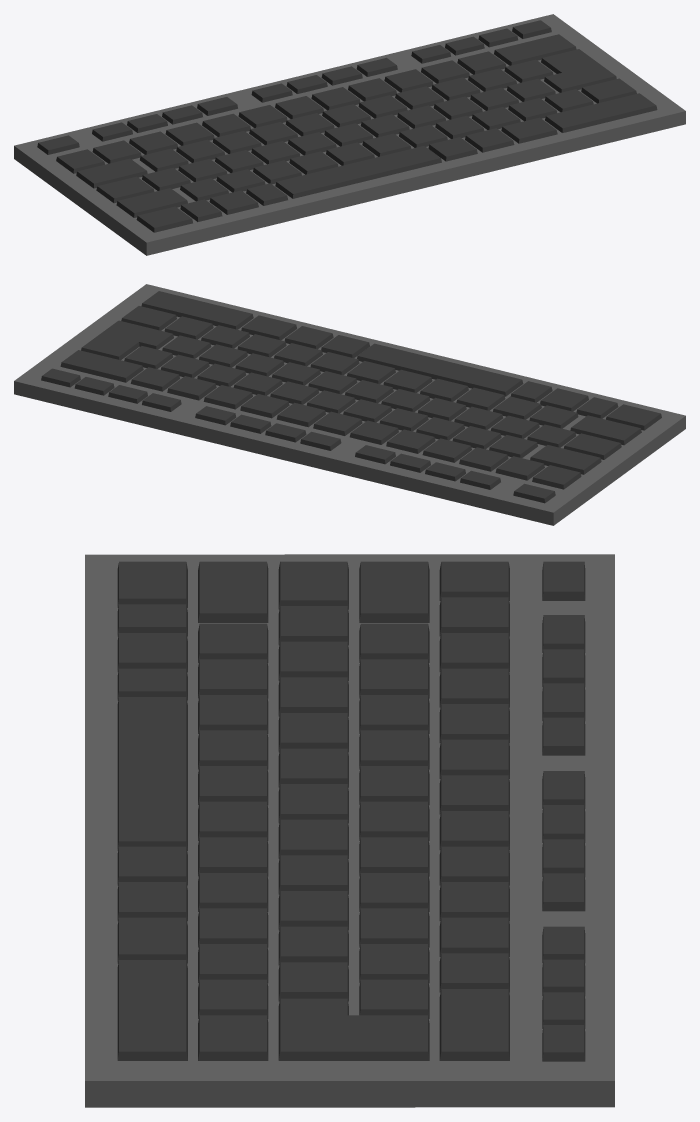
File: KeyboardV2Black.fbx
The picture shows the model from 3 angles, top to bottom: view 1: azimuth 30°, elevation 25°; view 2: azimuth 150°, elevation 25°; view 3: azimuth 270°, elevation 25°; orthographic projection. The views are drawn at different scales.
Parts seen in each view (by area): view 1: KeyboardV2Black; view 2: KeyboardV2Black; view 3: KeyboardV2Black.
Part boxes in pixels (x1,y1,x2,y2): KeyboardV2Black: [14, 14, 685, 255]; KeyboardV2Black: [14, 284, 685, 525]; KeyboardV2Black: [85, 554, 614, 1107].
Size of the model in its own units: 29.99 by 0.9399 by 12.76.
